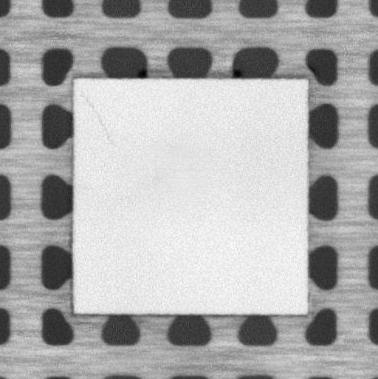DIE_CRACK: (83, 92, 114, 144)
